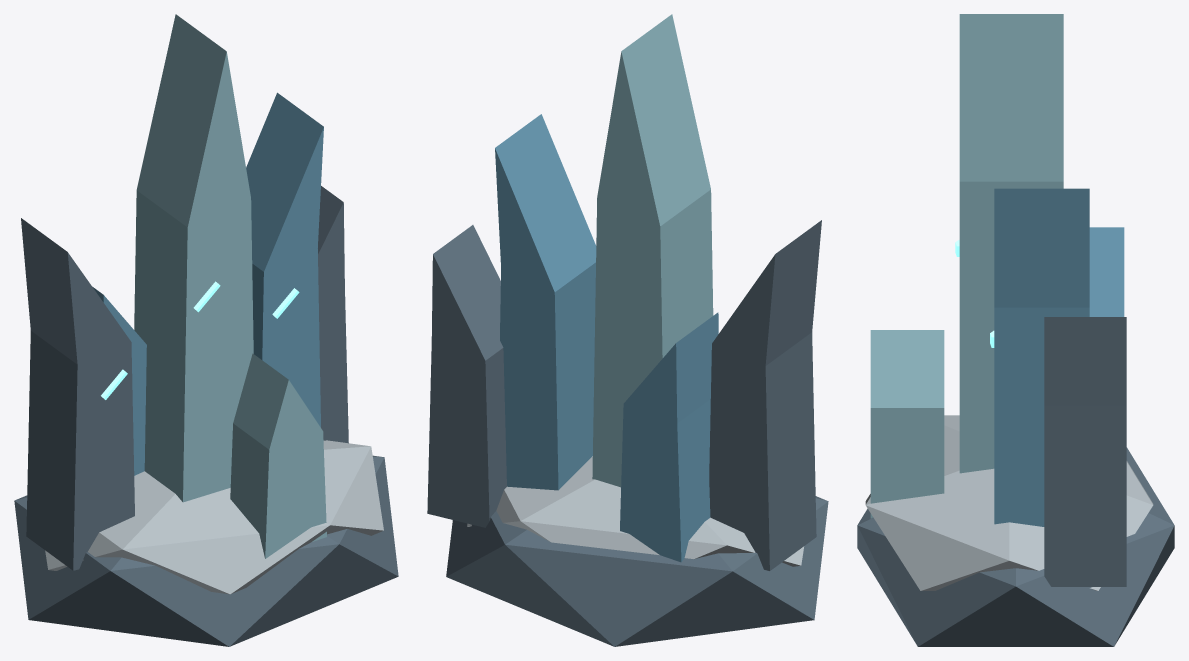
Rendered from wastes_glacial_cluster.glb.
3 renders of one model, left to right at view 1: azimuth 30°, elevation 25°; view 2: azimuth 150°, elevation 25°; view 3: azimuth 270°, elevation 25°, orthographic. The views are drawn at different scales.
Parts seen in each view (by area): view 1: wastes_glacial_cluster; view 2: wastes_glacial_cluster; view 3: wastes_glacial_cluster.
Part boxes in pixels (<box>): wastes_glacial_cluster: <box>14,14,398,646</box>; wastes_glacial_cluster: <box>427,14,828,646</box>; wastes_glacial_cluster: <box>857,14,1174,646</box>.
Bounding box in the file's own units: 0.966 × 1.54 × 0.7316.
